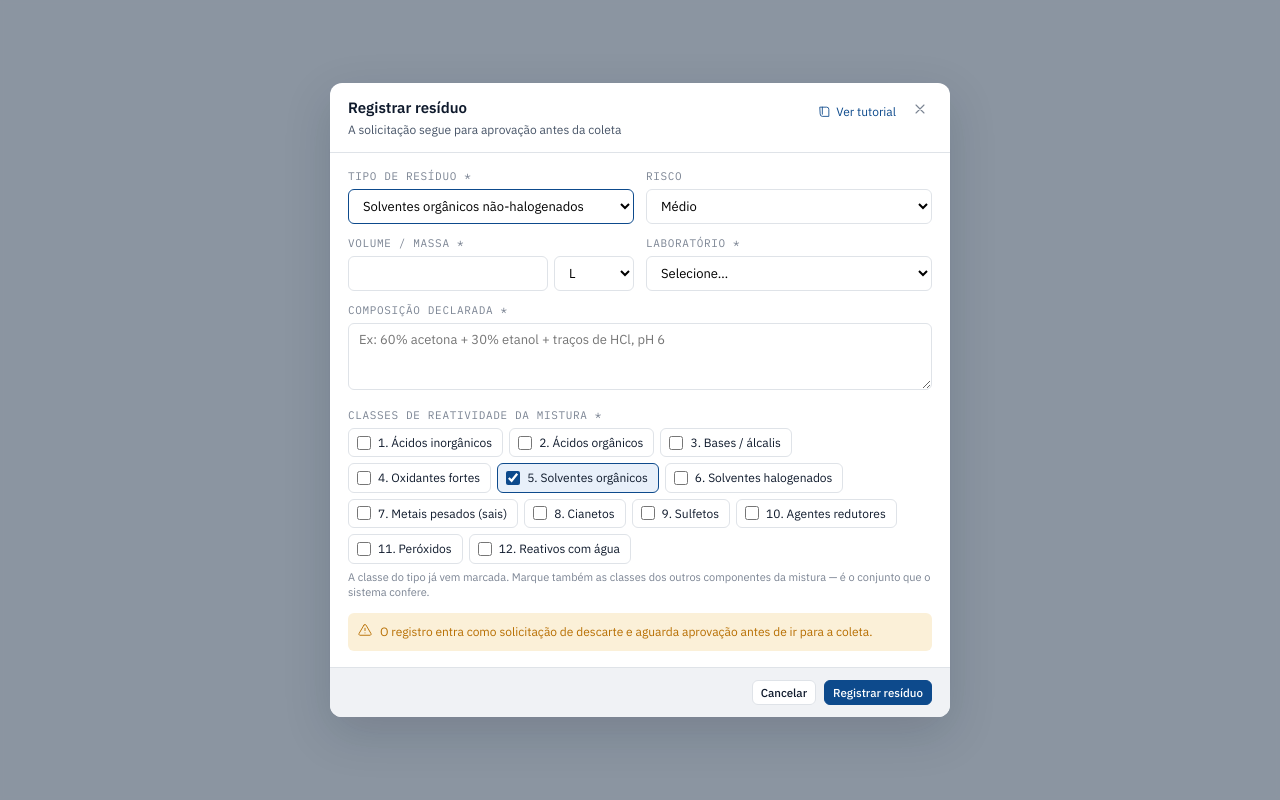
Test case: FormNovoResiduo — entradas inválidas › trocar o tipo troca a classe dele e preserva as marcadas à mão
Click the checkbox labelled "7. Metais pesados (sais)": coordinates (364, 513) [357,506,371,520]
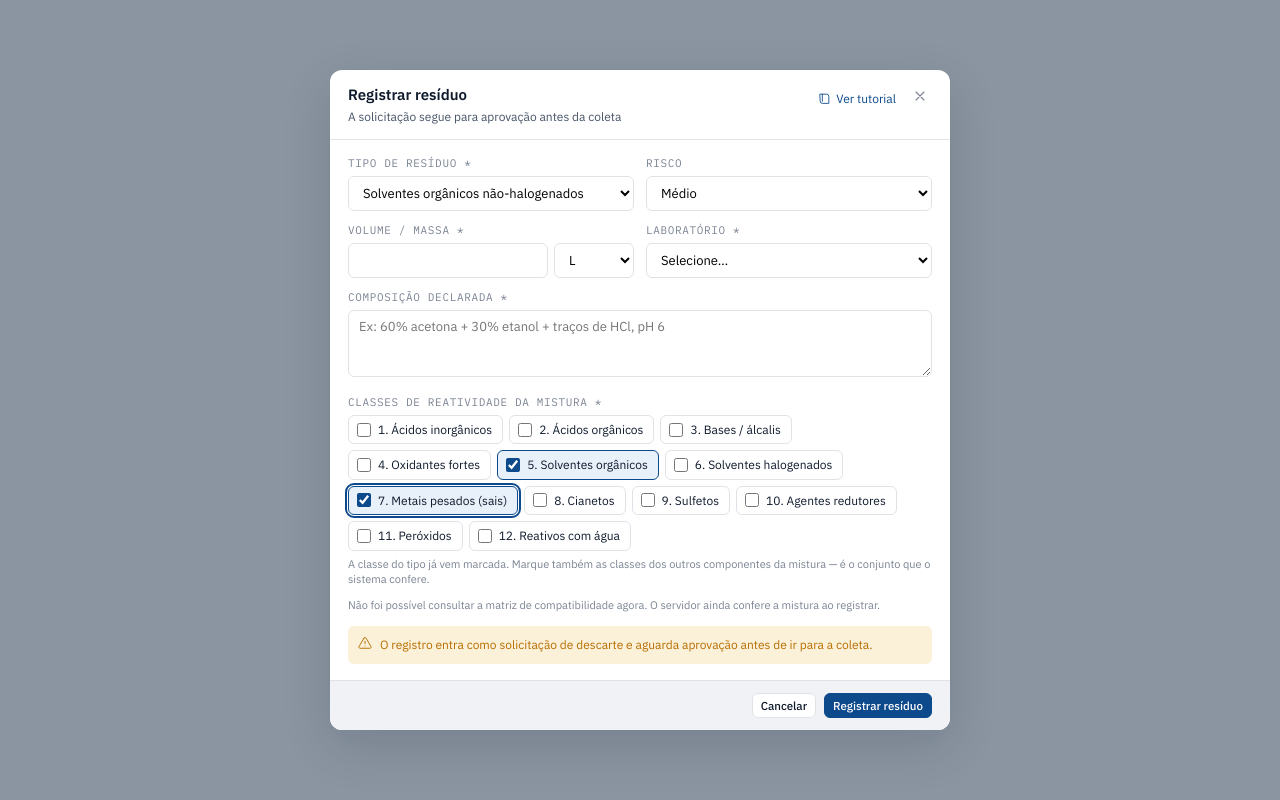
Select "Solventes halogenados" in the dropdown labelled "Tipo de resíduo *": coordinates (491, 194) [348,176,634,211]
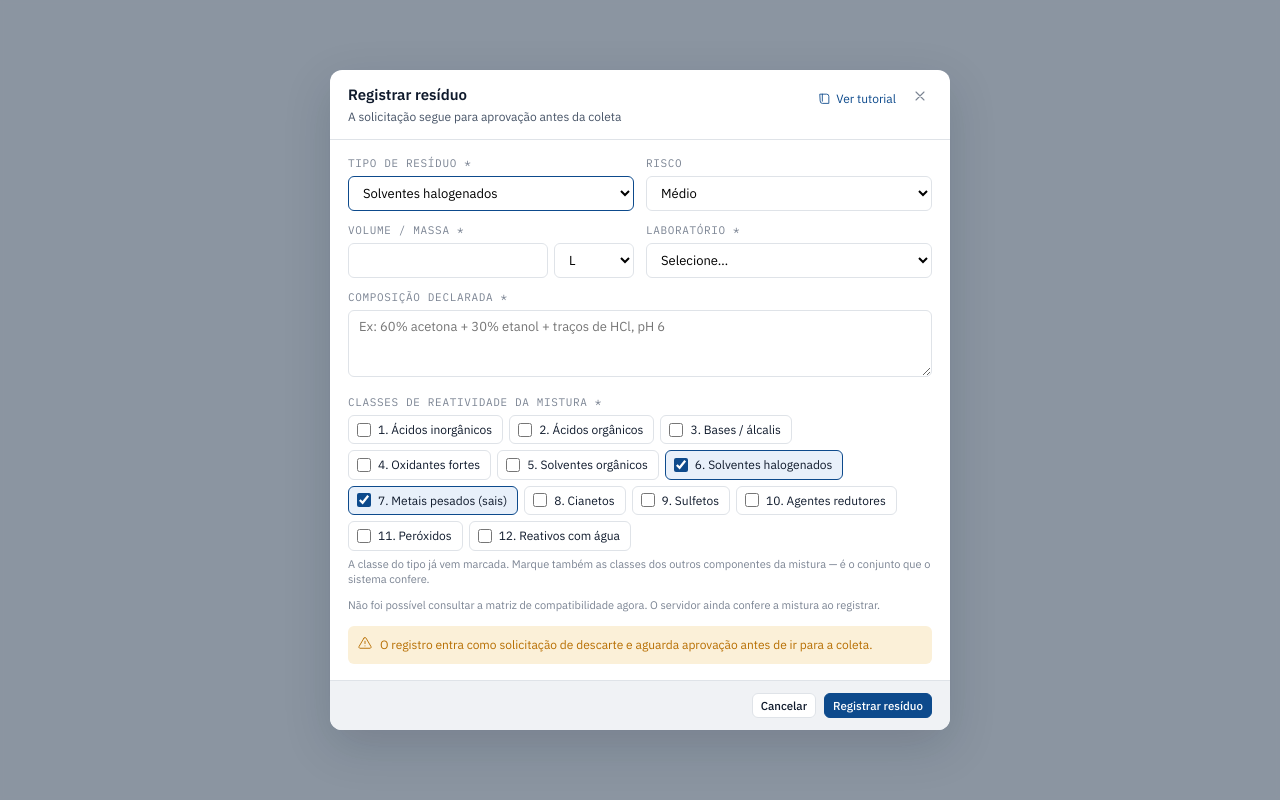
Check: the checkbox labelled "7. Metais pesados (sais)" is checked, box [357,494,371,508]
Check: the checkbox labelled "5. Solventes orgânicos" is not checked, box [506,458,520,472]
Check: the checkbox labelled "6. Solventes halogenados" is checked, box [674,458,688,472]
